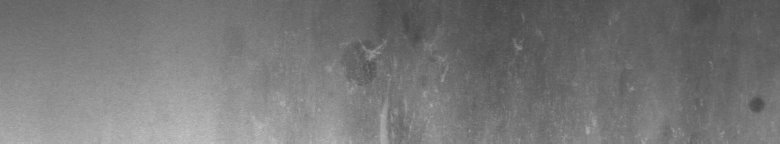fi: (746, 88, 772, 119)
